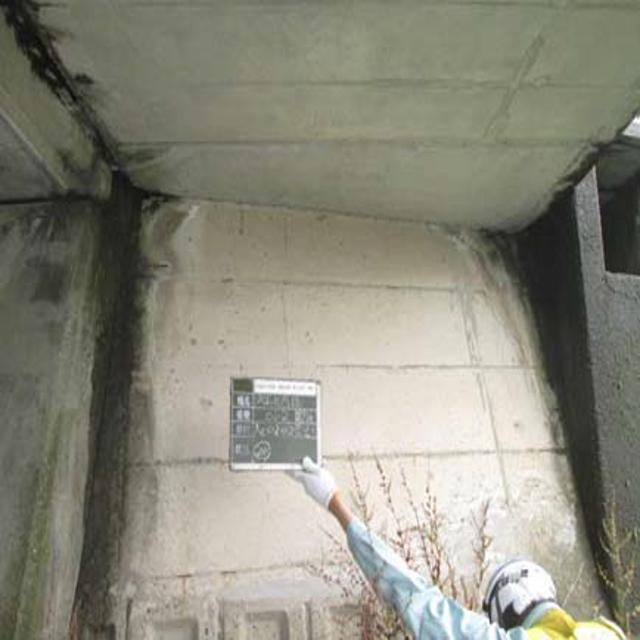leakage: (62, 98, 162, 640)
